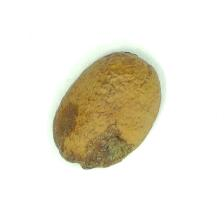NG: (55, 99, 135, 171)
